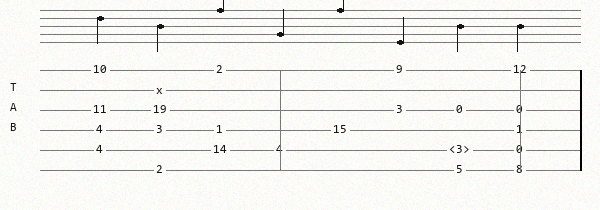0: (456, 104, 467, 116), (516, 144, 527, 156), (516, 104, 527, 116)
1: (216, 124, 227, 136), (516, 124, 527, 136)
10: (93, 64, 111, 76)
11: (93, 104, 111, 116)
12: (513, 64, 531, 76)
14: (213, 144, 231, 156)
15: (333, 124, 351, 136)
19: (153, 104, 171, 116)
2: (156, 164, 167, 176), (216, 64, 227, 76)
3: (156, 124, 167, 136), (396, 104, 407, 116)
4: (96, 124, 107, 136), (96, 144, 107, 156), (276, 144, 287, 156)
5: (456, 164, 467, 176)
8: (516, 164, 527, 176)
9: (396, 64, 407, 76)
harmonic: (449, 144, 474, 156)
x: (156, 85, 167, 95)
